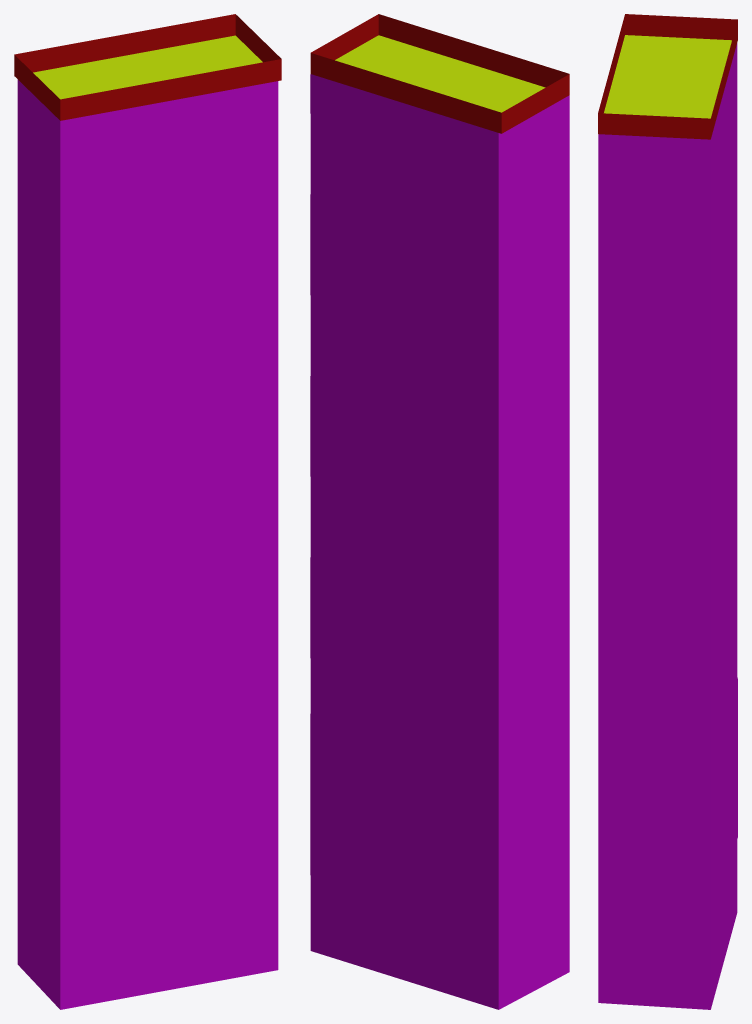
The model's file is bgj_417.glb.
The picture shows the model from 3 angles, left to right: view 1: azimuth 30°, elevation 25°; view 2: azimuth 150°, elevation 25°; view 3: azimuth 270°, elevation 25°; orthographic projection. The views are drawn at different scales.
Parts seen in each view (by area): view 1: bgj_417; view 2: bgj_417; view 3: bgj_417.
Boxes of the visible parts, <box> form: bgj_417: <box>14,14,281,1009</box>; bgj_417: <box>310,14,569,1009</box>; bgj_417: <box>598,14,737,1009</box>.
Size of the model in its own units: 3.74 by 14.84 by 2.11.
